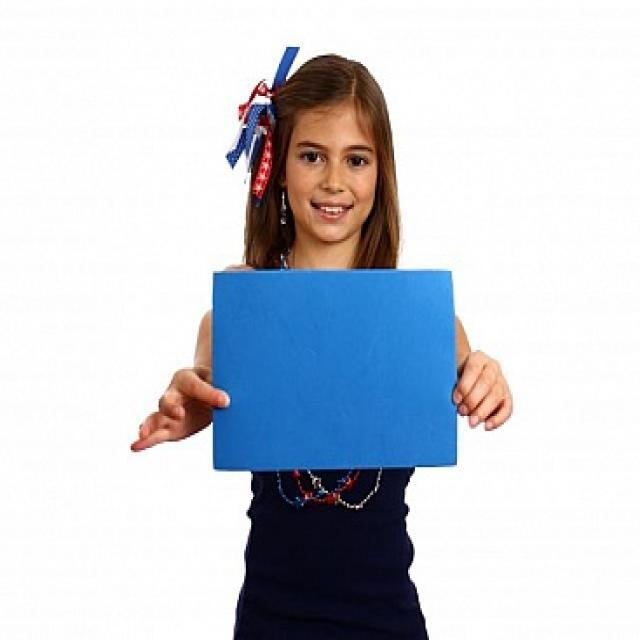Eyes: (296, 146, 374, 173)
